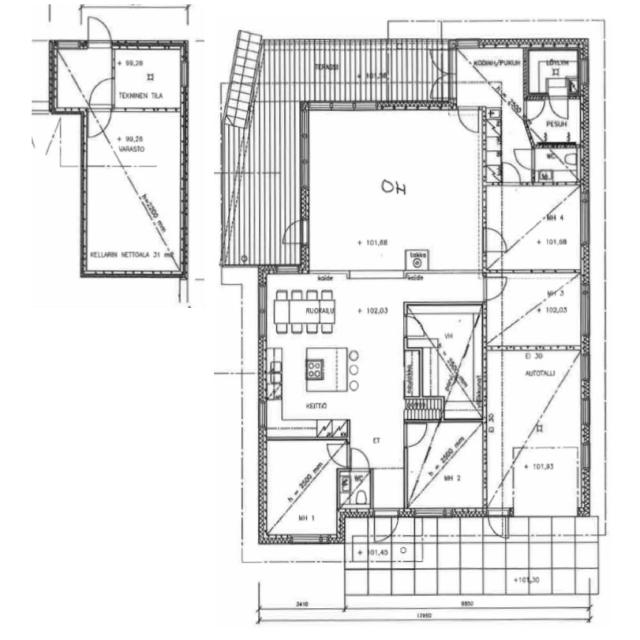door: (55, 48, 112, 112), (538, 93, 574, 137), (87, 79, 114, 136), (343, 466, 372, 511), (503, 148, 534, 182), (372, 507, 401, 542), (85, 14, 114, 48), (482, 225, 508, 259), (88, 75, 115, 106), (282, 218, 310, 246), (324, 440, 351, 469), (482, 272, 507, 302), (429, 46, 451, 78), (403, 420, 428, 448), (402, 312, 427, 340), (456, 105, 480, 134), (348, 444, 372, 472), (486, 510, 509, 539), (512, 145, 536, 172), (547, 92, 570, 120), (499, 160, 522, 186), (524, 98, 546, 120)
window: (296, 127, 314, 193), (254, 279, 270, 341), (348, 267, 406, 282), (577, 197, 592, 248), (578, 288, 592, 338), (289, 531, 324, 547), (578, 395, 593, 429), (274, 261, 304, 278), (256, 397, 270, 430), (414, 505, 447, 519), (578, 351, 592, 382), (578, 440, 592, 470), (179, 56, 191, 90), (134, 38, 168, 50), (458, 38, 481, 50)
zone: (306, 111, 479, 275), (263, 279, 354, 439), (264, 437, 340, 542), (495, 182, 583, 272), (406, 418, 487, 514), (405, 306, 481, 401), (490, 273, 582, 346), (509, 446, 584, 520), (111, 45, 186, 111), (453, 43, 525, 111), (52, 43, 108, 112), (526, 46, 581, 96), (529, 95, 579, 142), (533, 143, 579, 184), (371, 468, 406, 512), (338, 468, 372, 512)
